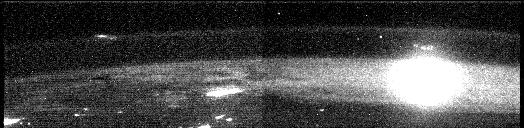positive: (412, 40, 441, 54)
